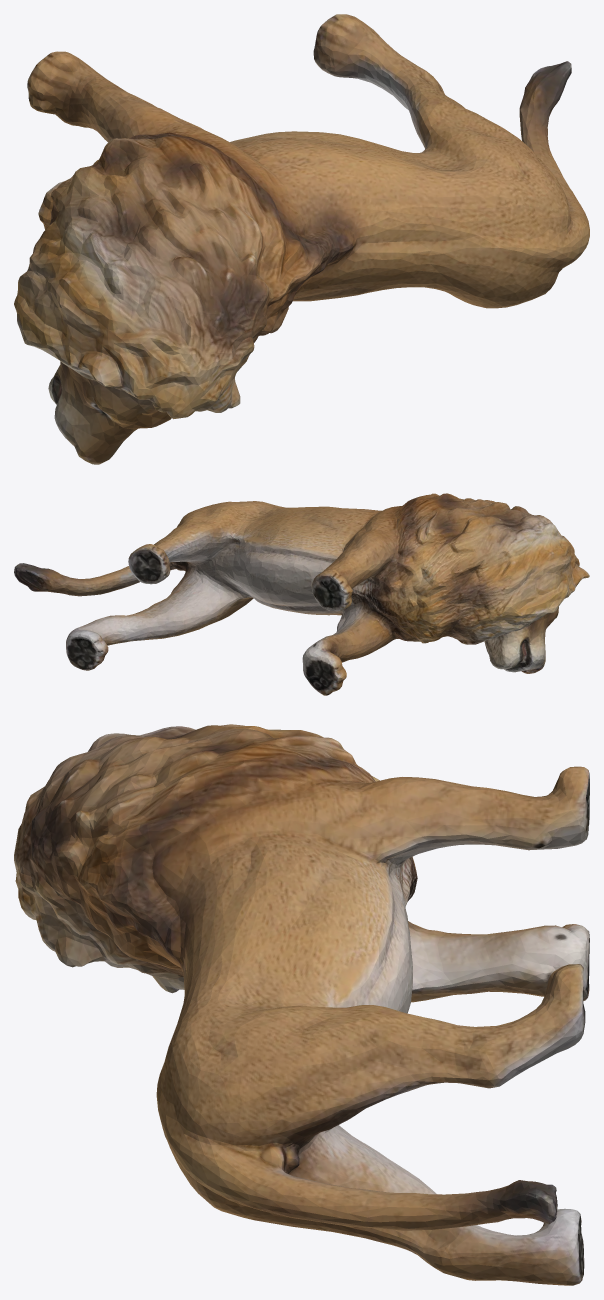
The model's file is lion.glb.
3 renders of one model, top to bottom at view 1: azimuth 30°, elevation 25°; view 2: azimuth 150°, elevation 25°; view 3: azimuth 270°, elevation 25°, orthographic. The views are drawn at different scales.
Visible parts, largest first — view 1: geometry_0; view 2: geometry_0; view 3: geometry_0.
Boxes of the visible parts, x1,y1,x2,y2 form: geometry_0: (14,14,589,464); geometry_0: (14,493,589,695); geometry_0: (14,724,589,1285).
Bounding box in the file's own units: 1 × 0.3624 × 0.6125.
Materials: 1 (1 with a texture image).
